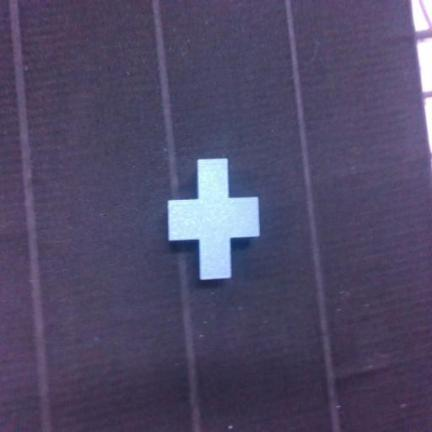cross: (168, 159, 259, 279)
